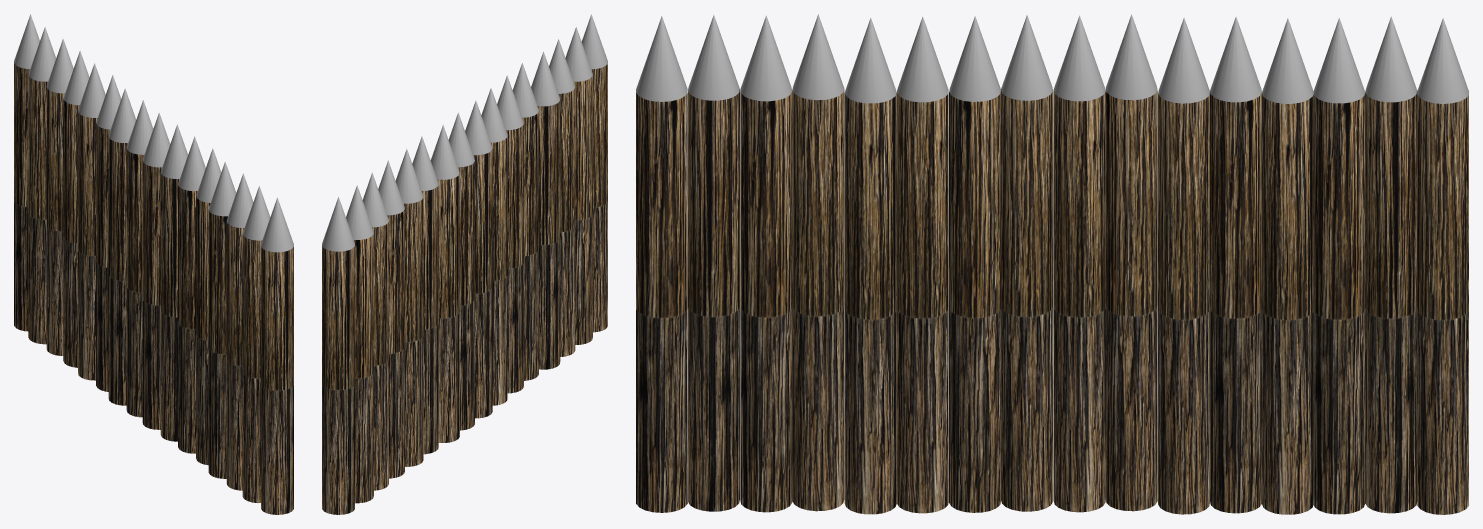
The model's file is Picket Fence.FBX.
3 renders of one model, left to right at view 1: azimuth 30°, elevation 25°; view 2: azimuth 150°, elevation 25°; view 3: azimuth 270°, elevation 25°, orthographic. The views are drawn at different scales.
Visible parts, largest first — view 1: Cylinder026, Cylinder021, Cylinder014, Cylinder019, Cylinder024, Cylinder027, Cylinder017, Cylinder023, Cylinder022, Cylinder015, Cylinder025, Cylinder020 (+4 smaller); view 2: Cylinder013, Cylinder024, Cylinder019, Cylinder017, Cylinder014, Cylinder021, Cylinder027, Cylinder023, Cylinder018, Cylinder022, Cylinder016, Cylinder025 (+4 smaller); view 3: Cylinder025, Cylinder014, Cylinder020, Cylinder021, Cylinder022, Cylinder019, Cylinder024, Cylinder028, Cylinder015, Cylinder018, Cylinder013, Cylinder026 (+4 smaller).
Part boxes in pixels (bbox=[...]): Cylinder026: bbox=[261, 197, 293, 514]; Cylinder021: bbox=[142, 113, 170, 429]; Cylinder014: bbox=[28, 27, 55, 344]; Cylinder019: bbox=[108, 88, 135, 405]; Cylinder024: bbox=[208, 162, 236, 478]; Cylinder027: bbox=[242, 186, 270, 502]; Cylinder017: bbox=[78, 63, 105, 380]; Cylinder023: bbox=[178, 136, 205, 453]; Cylinder022: bbox=[160, 124, 187, 441]; Cylinder015: bbox=[46, 39, 73, 355]; Cylinder025: bbox=[226, 173, 253, 490]; Cylinder020: bbox=[126, 100, 153, 417]; Cylinder013: bbox=[322, 197, 354, 514]; Cylinder024: bbox=[531, 51, 560, 369]; Cylinder019: bbox=[430, 125, 459, 442]; Cylinder017: bbox=[395, 149, 423, 466]; Cylinder014: bbox=[346, 185, 373, 503]; Cylinder021: bbox=[465, 100, 492, 418]; Cylinder027: bbox=[565, 27, 592, 344]; Cylinder023: bbox=[497, 75, 523, 393]; Cylinder018: bbox=[378, 160, 404, 478]; Cylinder022: bbox=[481, 88, 507, 405]; Cylinder016: bbox=[412, 136, 438, 454]; Cylinder025: bbox=[549, 39, 575, 356]; Cylinder025: bbox=[740, 15, 792, 512]; Cylinder014: bbox=[1365, 16, 1417, 513]; Cylinder020: bbox=[1053, 15, 1105, 512]; Cylinder021: bbox=[1001, 15, 1053, 511]; Cylinder022: bbox=[949, 16, 1001, 512]; Cylinder019: bbox=[1105, 14, 1157, 511]; Cylinder024: bbox=[792, 14, 844, 511]; Cylinder028: bbox=[844, 17, 896, 514]; Cylinder015: bbox=[1313, 18, 1365, 514]; Cylinder018: bbox=[1261, 18, 1313, 514]; Cylinder013: bbox=[1417, 18, 1468, 514]; Cylinder026: bbox=[636, 16, 687, 512].
Bounding box in the file's own units: 6.93 × 61.03 × 94.72.
